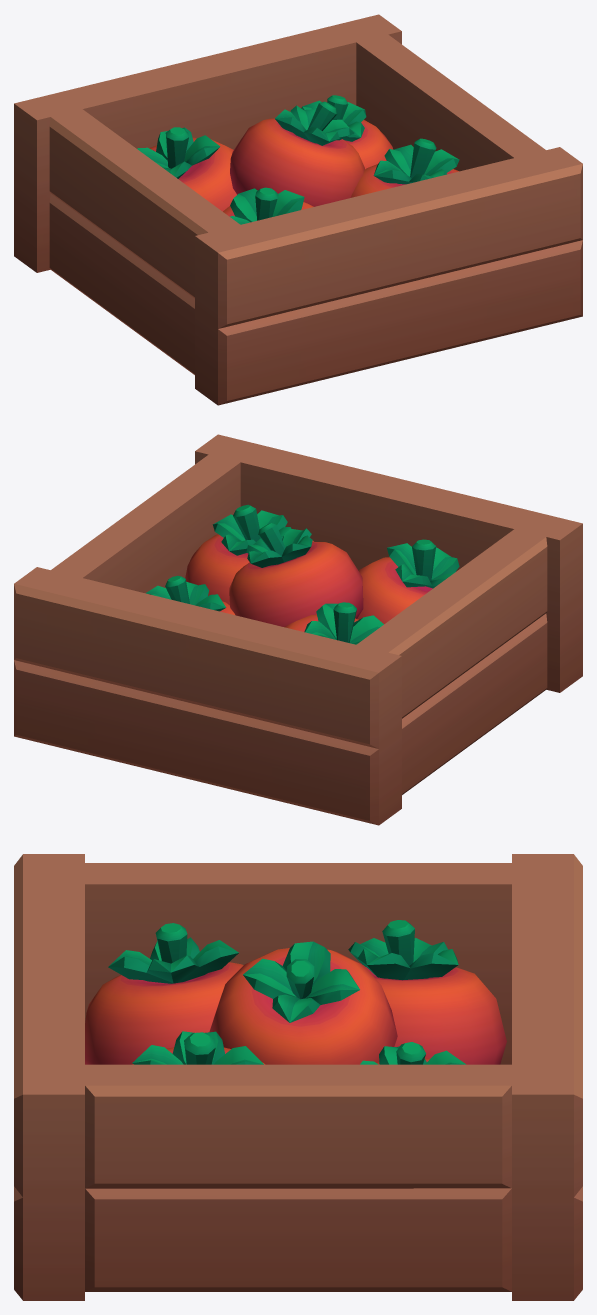
Rendered from supply_tomatoes.glb.
3 views of the same model, one above another, from view 1: azimuth 30°, elevation 25°; view 2: azimuth 150°, elevation 25°; view 3: azimuth 270°, elevation 25° (orthographic). The views are drawn at different scales.
Visible parts, largest first — view 1: crate_tomatoes; view 2: crate_tomatoes; view 3: crate_tomatoes.
Part boxes in pixels (x1=…): crate_tomatoes: x1=14, y1=14, x2=582, y2=405; crate_tomatoes: x1=14, y1=434, x2=582, y2=825; crate_tomatoes: x1=14, y1=854, x2=582, y2=1300.
Bounding box in the file's own units: 2 × 0.9232 × 2.
1 material, 1 textured.
